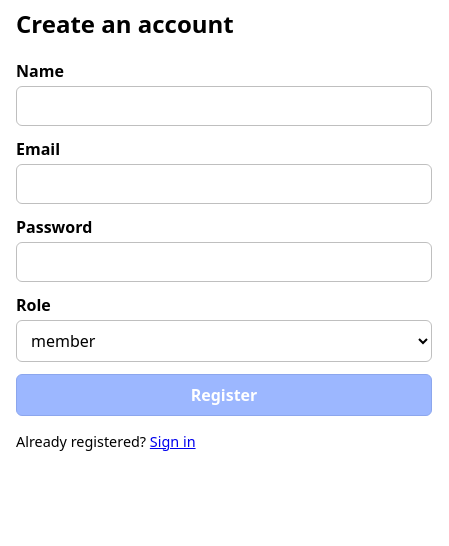
Test: RegisterPage › renders the registered member id, email and role on success
Type "Ada" into the field labelled "Name" at (224, 106), box [16,86,432,126]
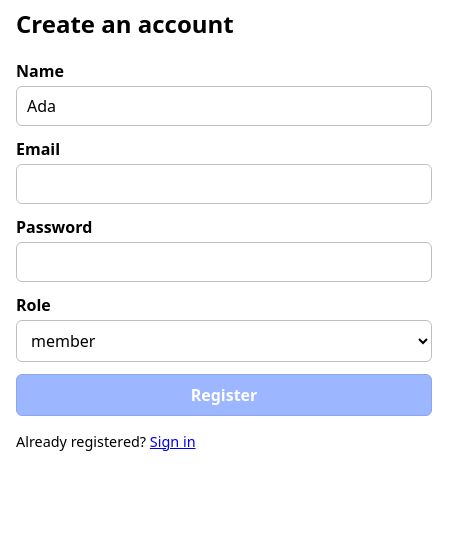
Type "Ada@Library.test" into the field labelled "Email" at (224, 184), box [16,164,432,204]
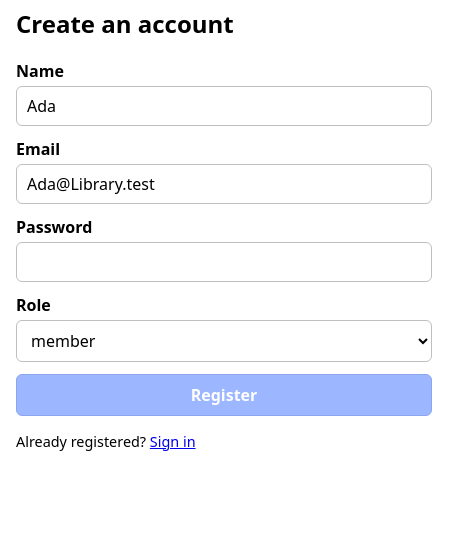
Type "Password123!" into the password field labelled "Password" at (224, 262), box [16,242,432,282]
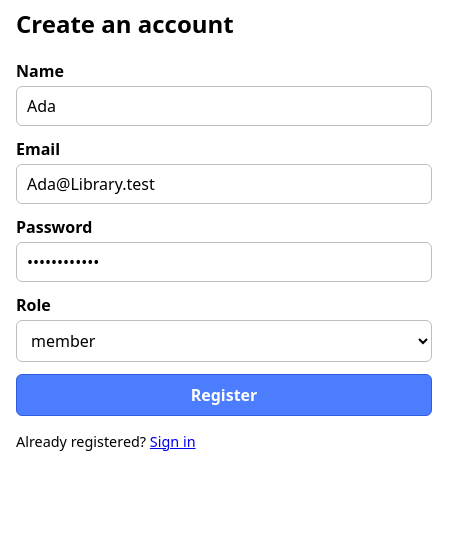
Click the button "Register" at (224, 395), box [16,374,432,416]
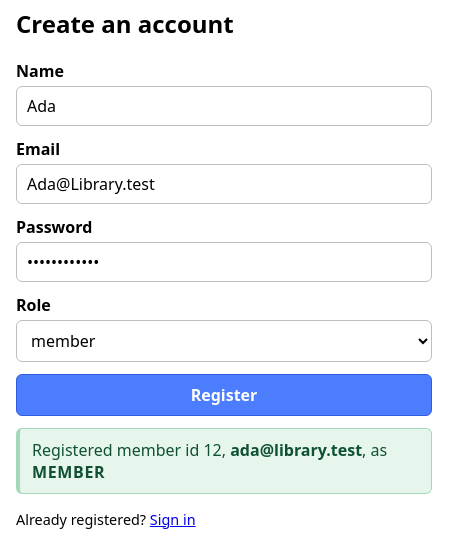
Expected: the message shows "12", [203,439,222,461]
Expected: the message shows "ada@library.test", [230,439,362,461]
Expected: the message shows "member", [32,461,105,483]
